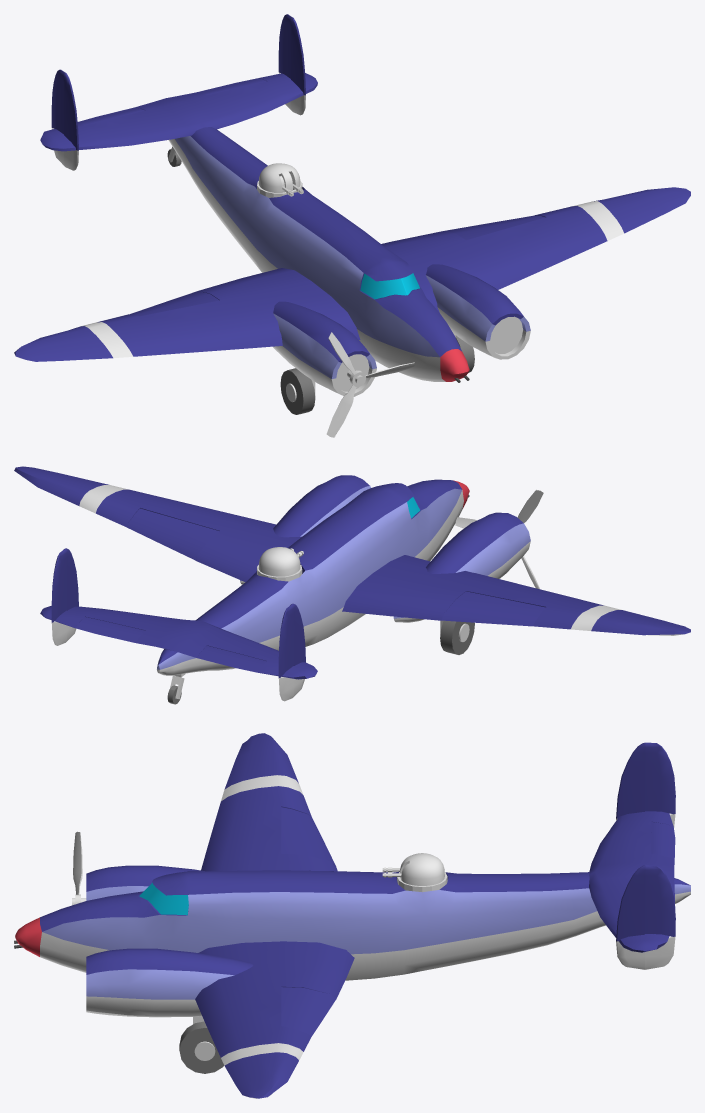
The model's file is bomber.fbx.
The picture shows the model from 3 angles, top to bottom: view 1: azimuth 30°, elevation 25°; view 2: azimuth 150°, elevation 25°; view 3: azimuth 270°, elevation 25°; orthographic projection. The views are drawn at different scales.
Parts seen in each view (by area): view 1: Plane Body, Plane Wing R, Plane Wing L, Front Wheel R, Propeller Front Blades, Turret, Aileron L, Aileron R, Rudder R, Elevators, Rudder L; view 2: Plane Body, Plane Wing R, Plane Wing L, Aileron R, Aileron L, Elevators, Rudder R, Rudder L, Turret, Front Wheel R, Propeller Front Blades, Back Wheel; view 3: Plane Body, Plane Wing L, Plane Wing R, Rudder L, Rudder R, Aileron L, Aileron R, Front Wheel L, Turret, Elevators.
Boxes of the visible parts, left/top/right/bottom form: Plane Body: left=40, top=17, right=469, bottom=382; Plane Wing R: left=14, top=268, right=376, bottom=396; Plane Wing L: left=381, top=187, right=690, bottom=359; Front Wheel R: left=280, top=368, right=315, bottom=414; Propeller Front Blades: left=326, top=332, right=414, bottom=437; Turret: left=257, top=163, right=302, bottom=197; Aileron L: left=445, top=215, right=544, bottom=240; Aileron R: left=130, top=291, right=219, bottom=316; Rudder R: left=51, top=69, right=65, bottom=166; Elevators: left=77, top=78, right=266, bottom=125; Rudder L: left=278, top=14, right=291, bottom=110; Plane Body: left=40, top=479, right=469, bottom=697; Plane Wing R: left=342, top=512, right=690, bottom=635; Plane Wing L: left=14, top=466, right=371, bottom=584; Aileron R: left=441, top=591, right=545, bottom=626; Aileron L: left=126, top=508, right=219, bottom=560; Elevators: left=75, top=617, right=266, bottom=672; Rudder R: left=278, top=604, right=294, bottom=701; Rudder L: left=51, top=548, right=67, bottom=645; Turret: left=257, top=547, right=302, bottom=581; Front Wheel R: left=440, top=620, right=474, bottom=654; Propeller Front Blades: left=455, top=489, right=543, bottom=589; Back Wheel: left=167, top=673, right=185, bottom=704; Plane Body: left=14, top=742, right=690, bottom=980; Plane Wing L: left=86, top=941, right=354, bottom=1098; Plane Wing R: left=86, top=733, right=337, bottom=900; Rudder L: left=645, top=865, right=675, bottom=969; Rudder R: left=645, top=742, right=675, bottom=827; Aileron L: left=281, top=987, right=335, bottom=1036; Aileron R: left=281, top=807, right=335, bottom=865; Front Wheel L: left=179, top=1016, right=223, bottom=1073; Turret: left=397, top=853, right=447, bottom=892; Elevators: left=651, top=822, right=675, bottom=908.
Bounding box in the file's own units: 19.08 × 5.46 × 14.96.
